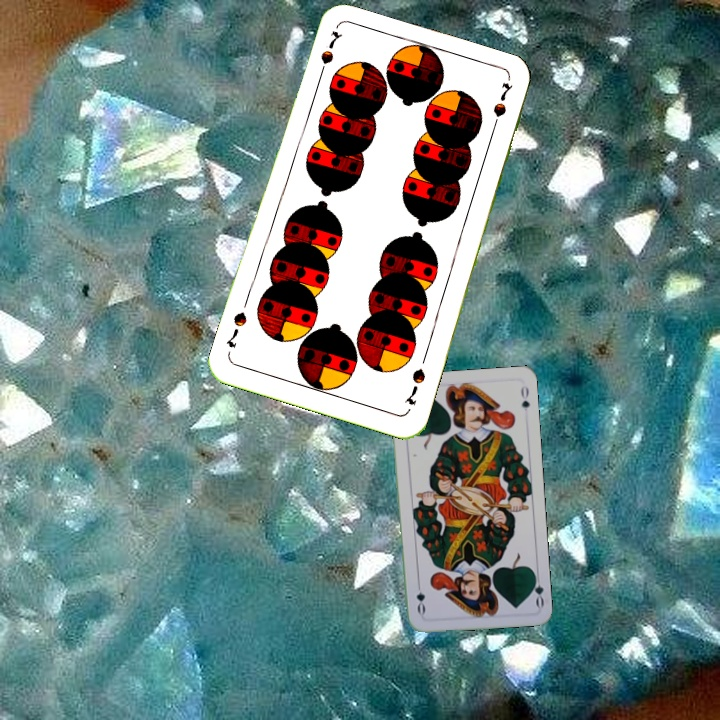GO: (527, 569, 546, 609)
S7: (314, 26, 344, 83), (400, 364, 428, 408)
